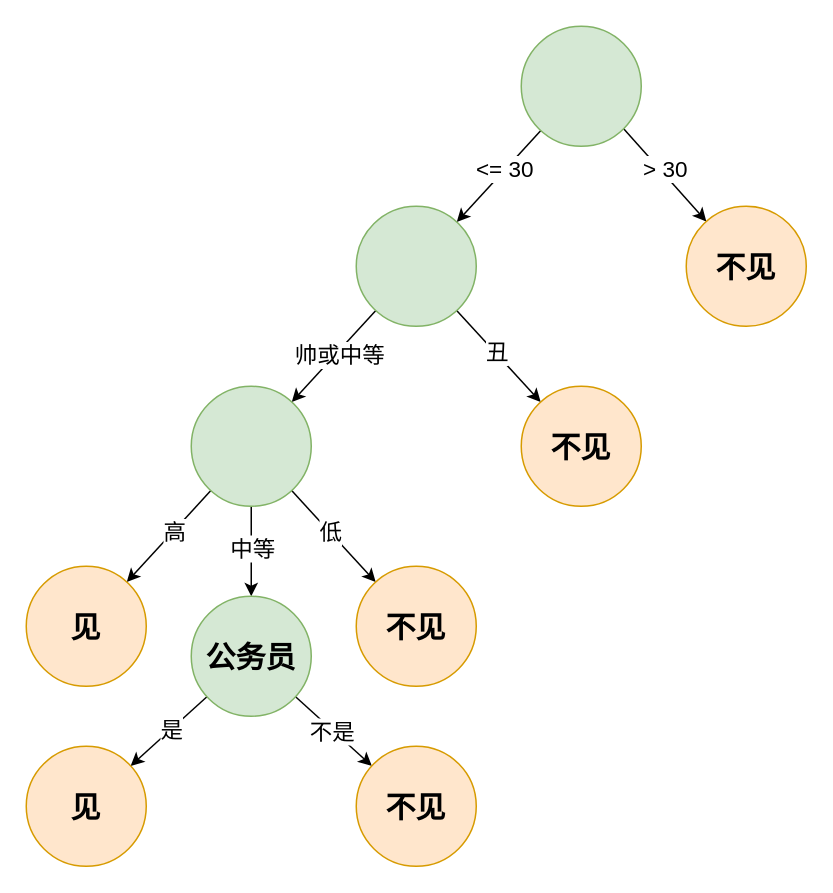
The diagram is 833 pixels wide and 893 high, and some of its shapes have lost their labels. The box of each missing label's shape, as (x1, y1, x2, y2) in pixels:
年龄: (520, 25, 641, 146)
收入: (190, 385, 311, 506)
长相: (355, 205, 476, 326)
